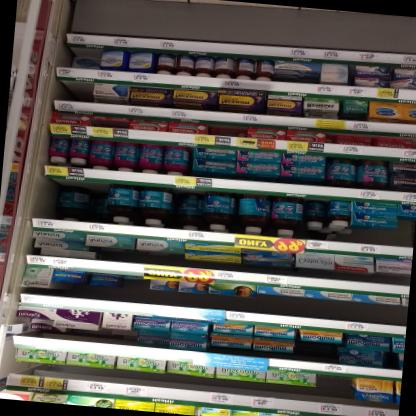empty_space: (315, 372, 356, 405), (49, 176, 113, 194), (58, 80, 91, 105), (71, 47, 102, 60)
